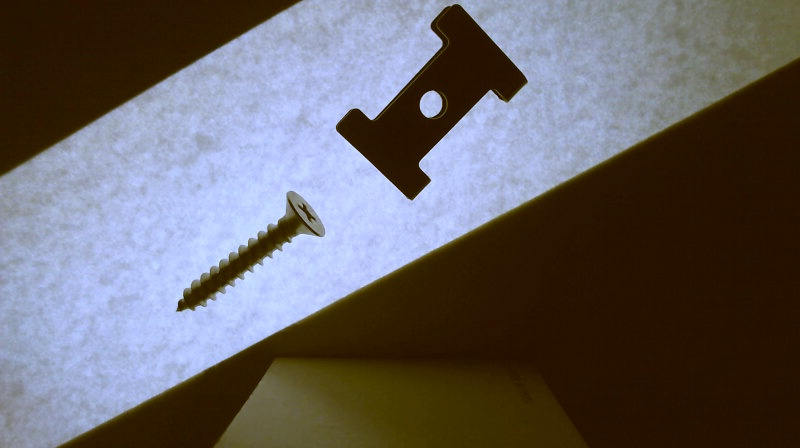O002: (335, 3, 529, 202)
S001: (173, 188, 328, 315)
